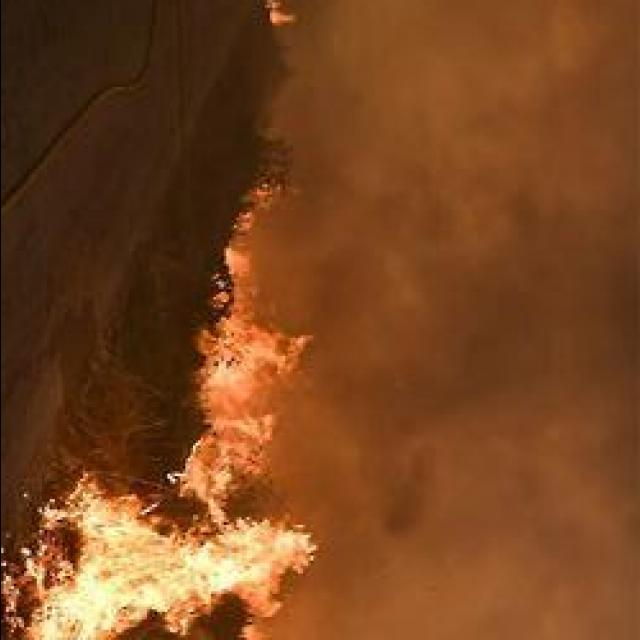fire: (100, 550, 177, 616), (232, 524, 304, 586), (152, 543, 230, 596), (44, 582, 112, 640), (216, 325, 291, 371), (180, 452, 230, 516), (205, 412, 268, 459), (86, 511, 142, 562), (201, 368, 257, 418)
smoke: (479, 387, 640, 640), (336, 433, 530, 640), (513, 0, 640, 268), (374, 120, 550, 298), (316, 0, 532, 109), (327, 196, 462, 360)
